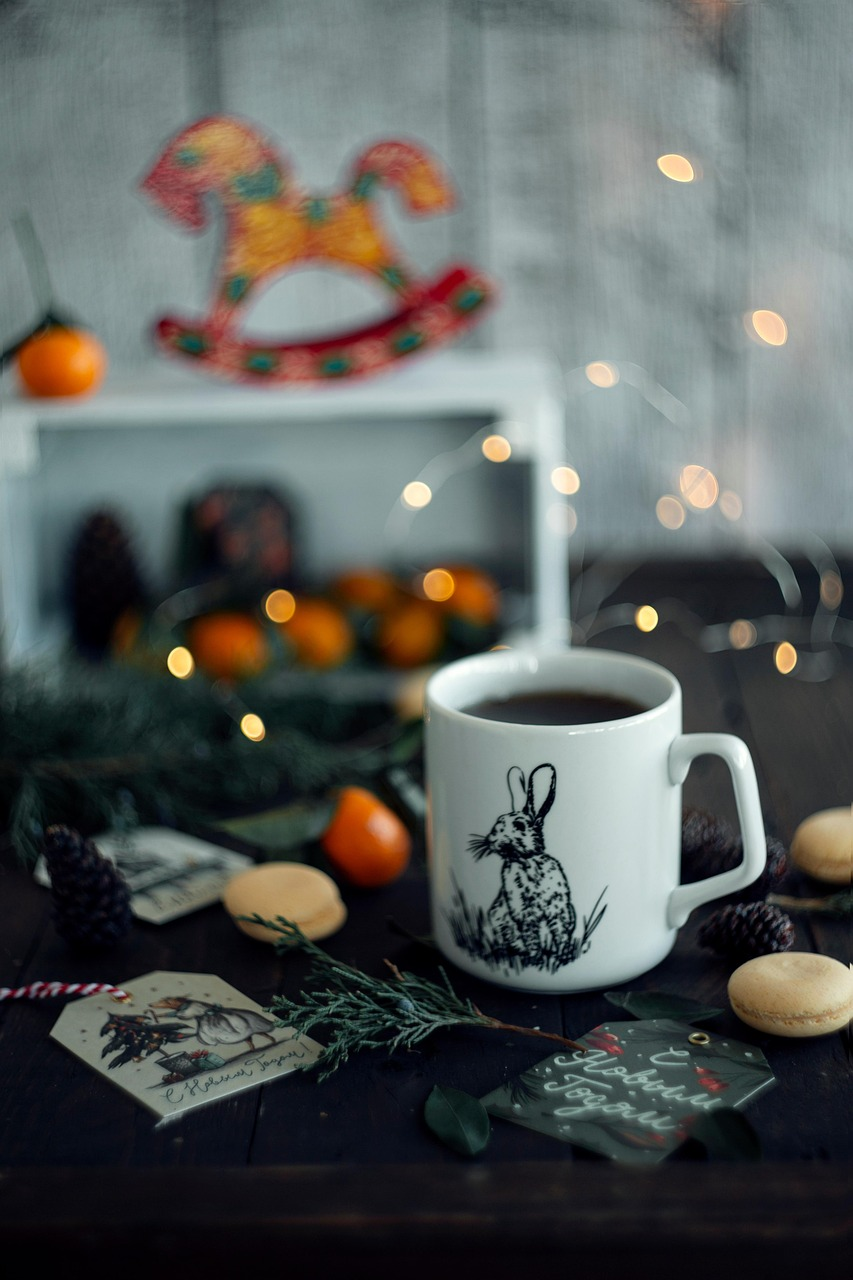mug: (419, 638, 773, 1016)
